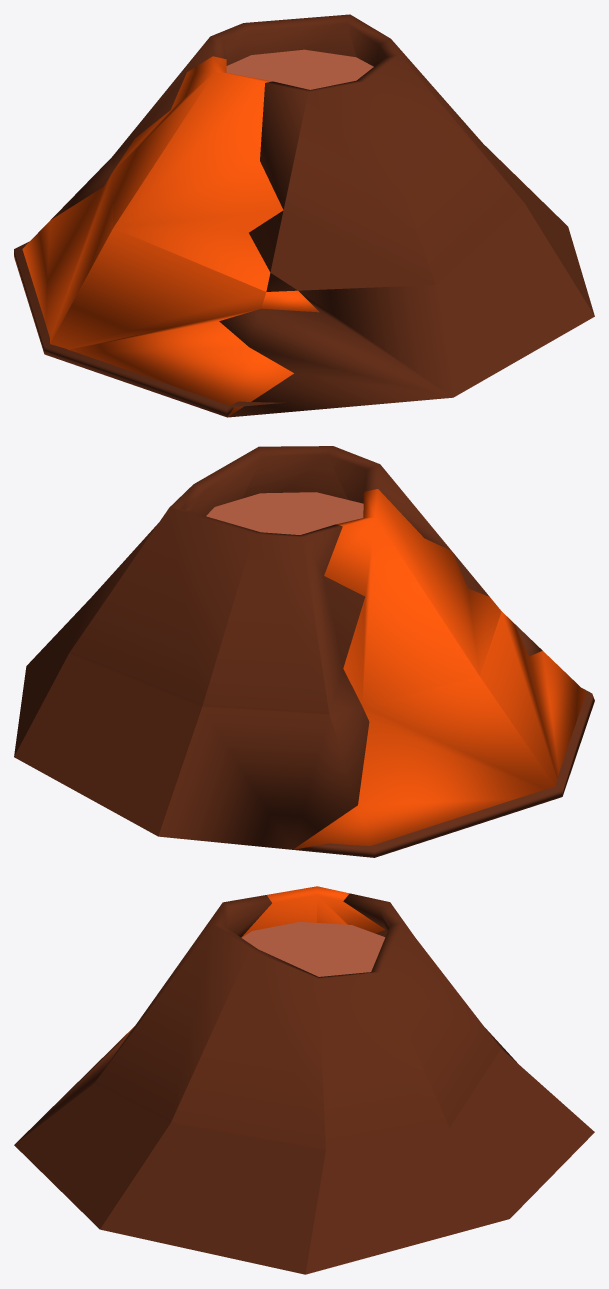
Rendered from deadVFnoL2.fbx.
3 views of the same model, one above another, from view 1: azimuth 30°, elevation 25°; view 2: azimuth 150°, elevation 25°; view 3: azimuth 270°, elevation 25° (orthographic). The views are drawn at different scales.
Parts seen in each view (by area): view 1: daedV.001, daedVLfull, deadVL; view 2: daedV.001, daedVLfull, deadVL; view 3: daedV.001, deadVL, daedVLfull.
Part boxes in pixels (x1,y1,x2,y2): daedV.001: (14, 14, 594, 417); daedVLfull: (22, 56, 319, 416); deadVL: (226, 49, 373, 89); daedV.001: (14, 446, 594, 857); daedVLfull: (293, 489, 586, 849); deadVL: (206, 492, 363, 534); daedV.001: (14, 893, 594, 1274); deadVL: (242, 922, 385, 976); daedVLfull: (119, 886, 385, 1042).
Size of the model in its own units: 483 by 218 by 482.
